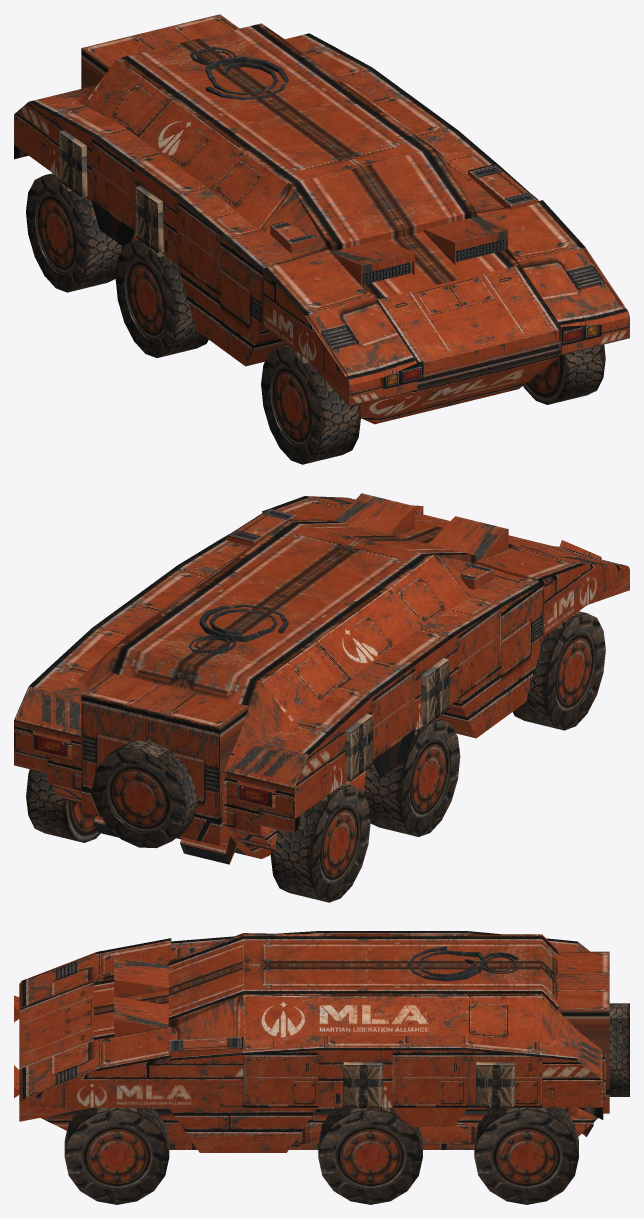
The model's file is coyote.dae.
3 renders of one model, top to bottom at view 1: azimuth 30°, elevation 25°; view 2: azimuth 150°, elevation 25°; view 3: azimuth 270°, elevation 25°, orthographic. The views are drawn at different scales.
Visible parts, largest first — view 1: coyote; view 2: coyote; view 3: coyote.
Boxes of the visible parts, x1,y1,x2,y2 form: coyote: [14, 14, 629, 464]; coyote: [14, 493, 629, 902]; coyote: [14, 931, 629, 1204].
Bounding box in the file's own units: 8.83 × 18.56 × 6.14.
